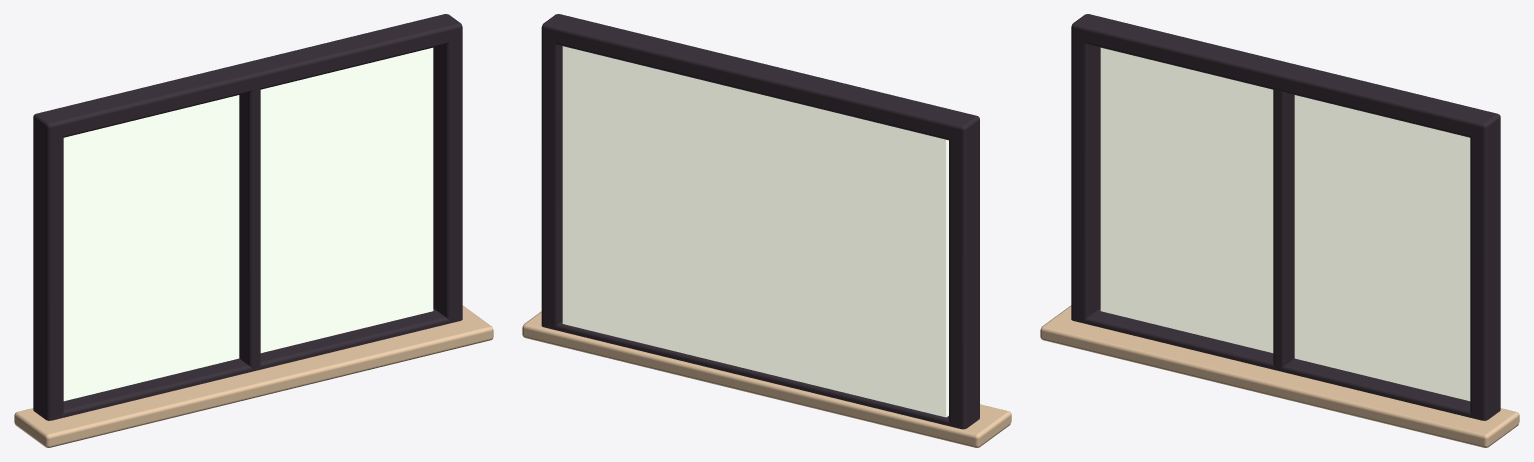
The model's file is suite_window_kitchen.glb.
3 views of the same model, side by side, from view 1: azimuth 30°, elevation 25°; view 2: azimuth 150°, elevation 25°; view 3: azimuth 330°, elevation 25° (orthographic). The views are drawn at different scales.
Bounding box in the file's own units: 2.36 × 1.56 × 0.31.
